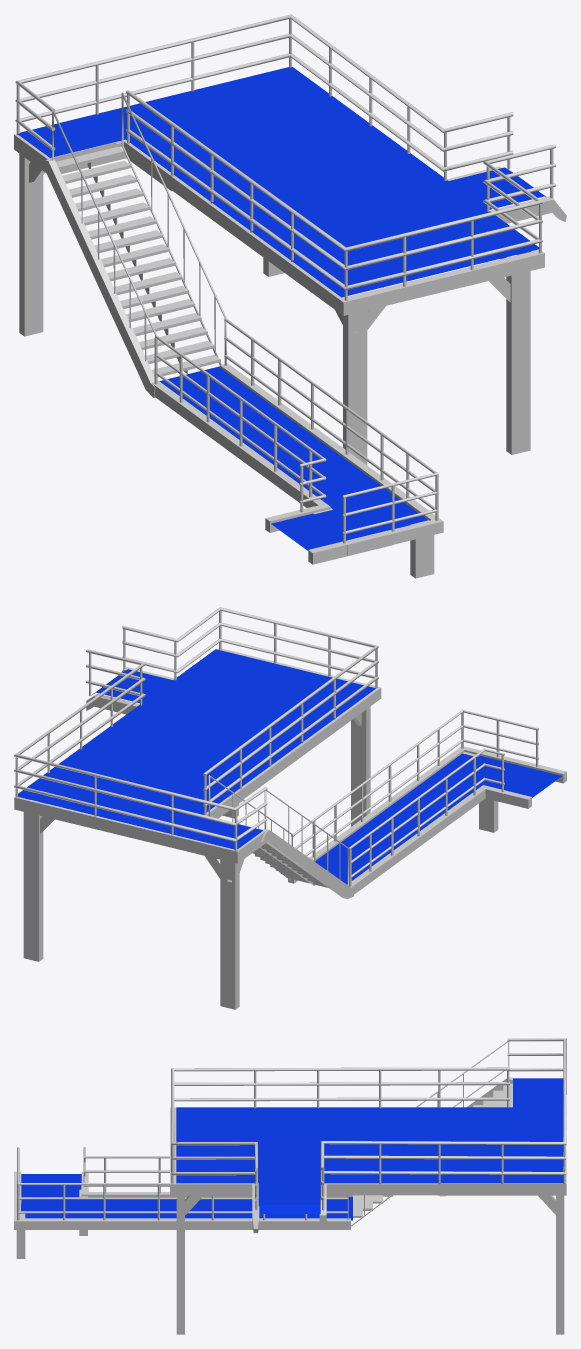
The model's file is Stairs_platform_v4.FBX.
3 renders of one model, top to bottom at view 1: azimuth 30°, elevation 25°; view 2: azimuth 150°, elevation 25°; view 3: azimuth 270°, elevation 25°, orthographic. The views are drawn at different scales.
Parts seen in each view (by area): view 1: stairs_platform; view 2: stairs_platform; view 3: stairs_platform.
Part boxes in pixels (x1=…): stairs_platform: x1=14, y1=14, x2=566, y2=578; stairs_platform: x1=14, y1=607, x2=566, y2=1009; stairs_platform: x1=14, y1=1038, x2=566, y2=1334.
Size of the model in its own units: 344 by 203 by 518.
